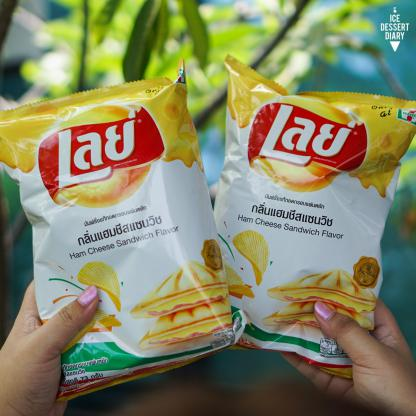potatochip: (0, 55, 240, 403), (202, 51, 415, 381)
